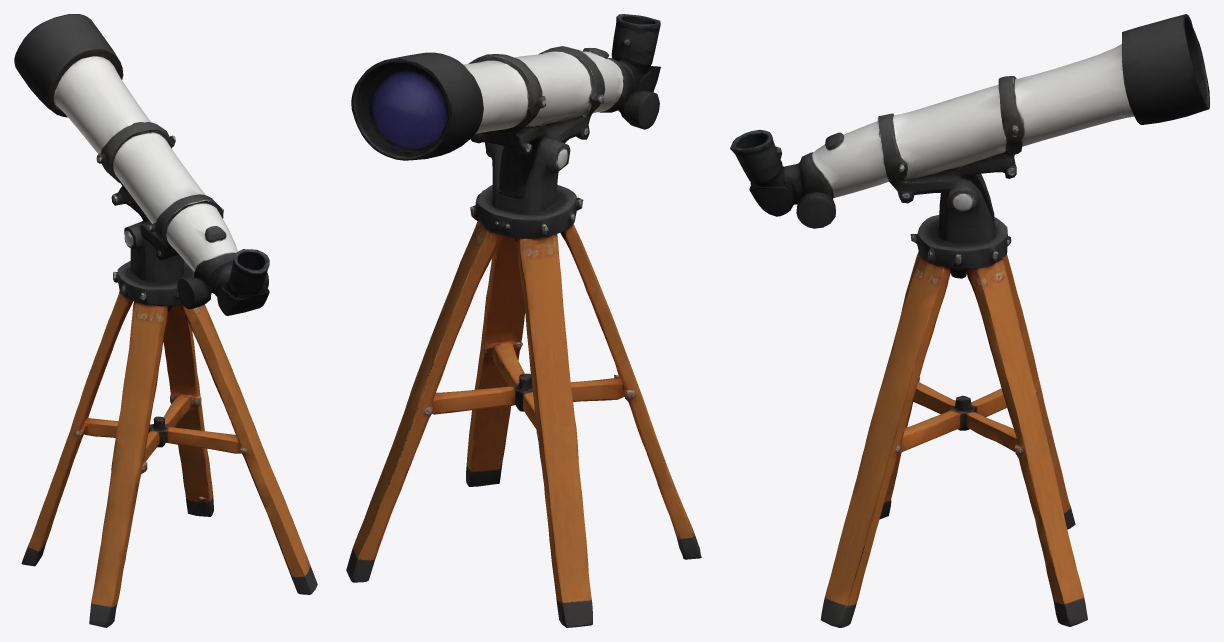
The model's file is telescope.glb.
The picture shows the model from 3 angles, left to right: view 1: azimuth 30°, elevation 25°; view 2: azimuth 150°, elevation 25°; view 3: azimuth 270°, elevation 25°; orthographic projection. The views are drawn at different scales.
Visible parts, largest first — view 1: geometry_0; view 2: geometry_0; view 3: geometry_0.
Part boxes in pixels (x1,y1,x2,y2): geometry_0: (14,14,317,627); geometry_0: (346,14,701,627); geometry_0: (730,14,1209,627).
Bounding box in the file's own units: 0.6635 × 1.45 × 1.15.
Materials: 1 (1 with a texture image).
